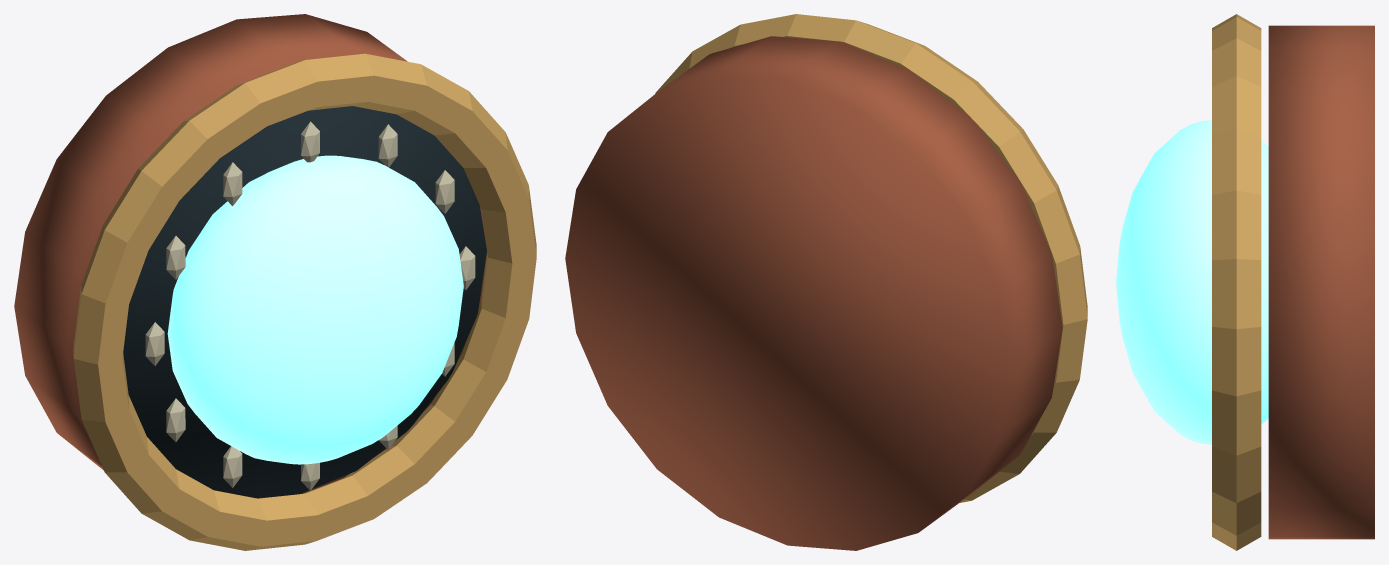
The model's file is relic-krakenLens.glb.
3 renders of one model, left to right at view 1: azimuth 30°, elevation 25°; view 2: azimuth 150°, elevation 25°; view 3: azimuth 270°, elevation 25°, orthographic.
Parts seen in each view (by area): view 1: relic-krakenLens / Glass | luminous mint, relic-krakenLens / Brass | machined champagne, relic-krakenLens / Copper | patinated oxblood, relic-krakenLens / Rubber | dark insets, relic-krakenLens / Ceramic | warm ivory; view 2: relic-krakenLens / Copper | patinated oxblood, relic-krakenLens / Brass | machined champagne; view 3: relic-krakenLens / Copper | patinated oxblood, relic-krakenLens / Glass | luminous mint, relic-krakenLens / Brass | machined champagne.
Boxes of the visible parts, x1,y1,x2,y2 form: relic-krakenLens / Glass | luminous mint: [167, 155, 463, 464]; relic-krakenLens / Brass | machined champagne: [73, 53, 536, 550]; relic-krakenLens / Copper | patinated oxblood: [14, 14, 487, 498]; relic-krakenLens / Rubber | dark insets: [123, 106, 486, 497]; relic-krakenLens / Ceramic | warm ivory: [145, 121, 475, 490]; relic-krakenLens / Copper | patinated oxblood: [565, 36, 1062, 550]; relic-krakenLens / Brass | machined champagne: [655, 14, 1087, 502]; relic-krakenLens / Copper | patinated oxblood: [1268, 25, 1374, 539]; relic-krakenLens / Glass | luminous mint: [1116, 120, 1268, 444]; relic-krakenLens / Brass | machined champagne: [1212, 14, 1261, 550].
Size of the model in its own units: 1.52 by 1.52 by 0.73.
